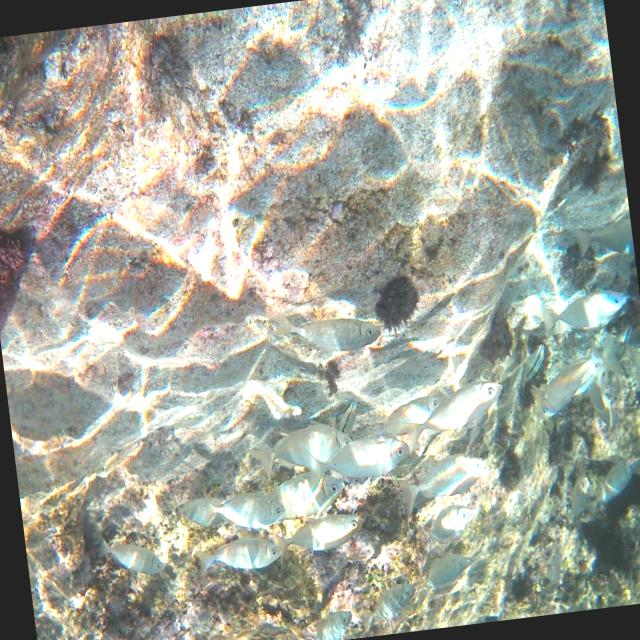Sokar Baligi: (262, 294, 388, 369), (530, 267, 638, 351), (198, 478, 295, 540), (196, 528, 286, 594)
